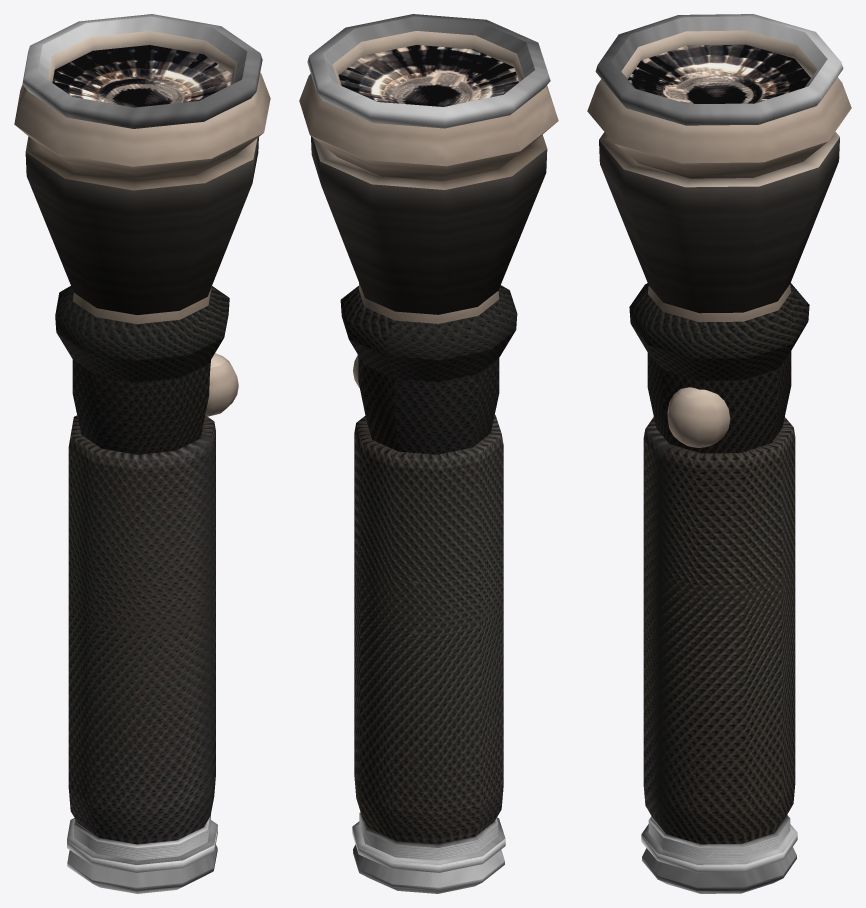
The model's file is Torchlight.fbx.
3 renders of one model, left to right at view 1: azimuth 30°, elevation 25°; view 2: azimuth 150°, elevation 25°; view 3: azimuth 270°, elevation 25°, orthographic.
Parts seen in each view (by area): view 1: pSphere5; view 2: pSphere5; view 3: pSphere5.
Boxes of the visible parts, x1,y1,x2,y2 form: pSphere5: (14,14,270,893); pSphere5: (299,14,558,893); pSphere5: (587,14,851,893).
Bounding box in the file's own units: 3.58 × 12.57 × 3.73.
